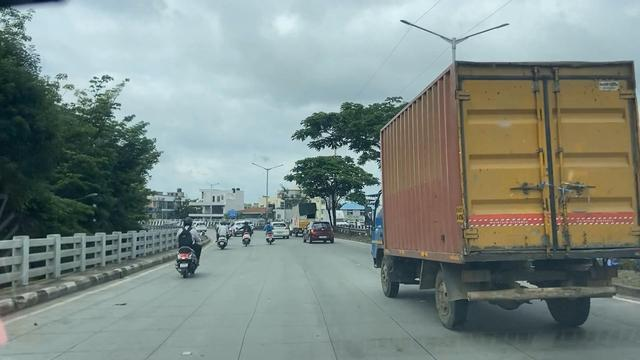HMV: (391, 90, 639, 338)
LMV: (172, 216, 205, 277), (309, 221, 335, 248), (260, 216, 277, 245), (242, 222, 255, 249), (219, 215, 229, 248)
